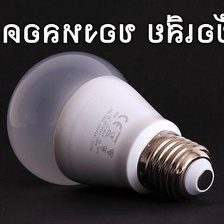light_bulb: (0, 48, 216, 204)
